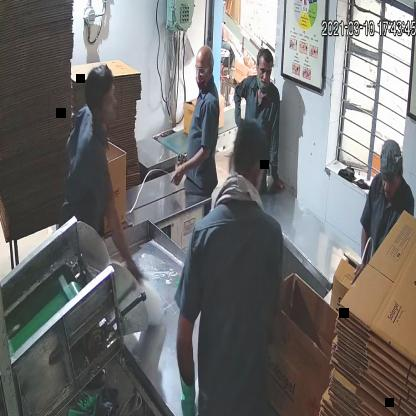no_glove: (103, 194, 148, 300), (167, 143, 215, 189), (266, 119, 290, 198)
